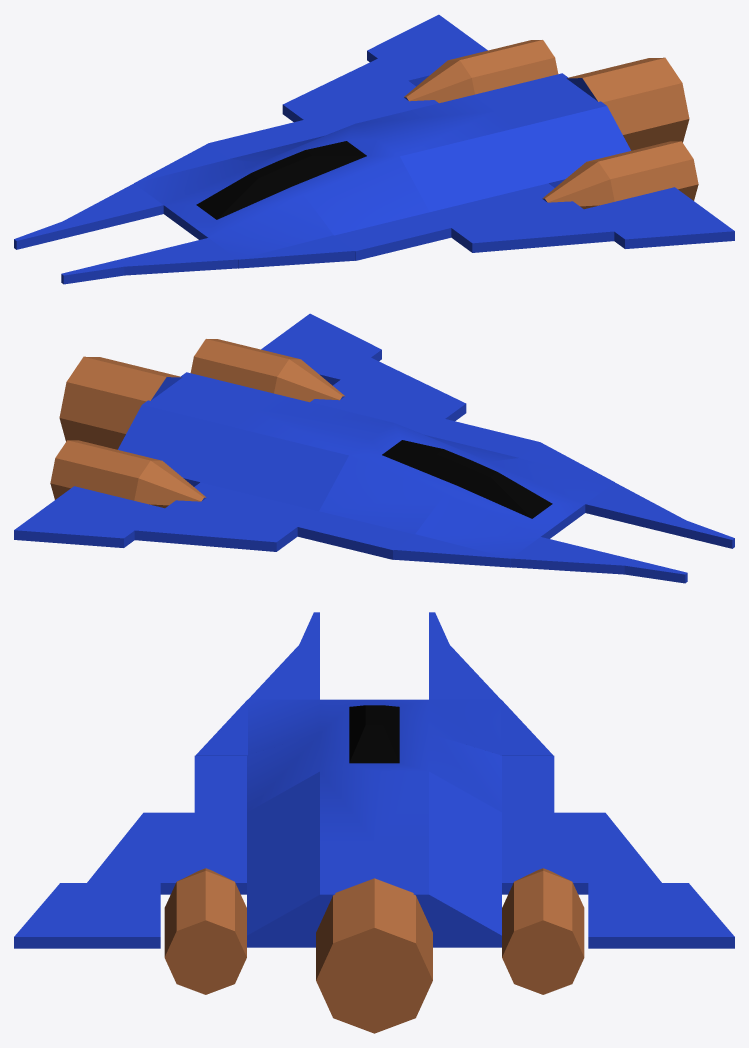
The model's file is Airframe.fbx.
3 views of the same model, one above another, from view 1: azimuth 30°, elevation 25°; view 2: azimuth 150°, elevation 25°; view 3: azimuth 270°, elevation 25° (orthographic). The views are drawn at different scales.
Visible parts, largest first — view 1: pCylinder3; view 2: pCylinder3; view 3: pCylinder3.
Part boxes in pixels (x1=…): pCylinder3: x1=14, y1=14, x2=734, y2=284; pCylinder3: x1=14, y1=313, x2=734, y2=583; pCylinder3: x1=14, y1=612, x2=734, y2=1033.
Bounding box in the file's own units: 15.07 × 2 × 12.33.
